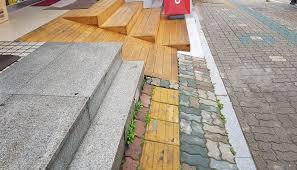guide_blocks: (140, 85, 178, 169)
